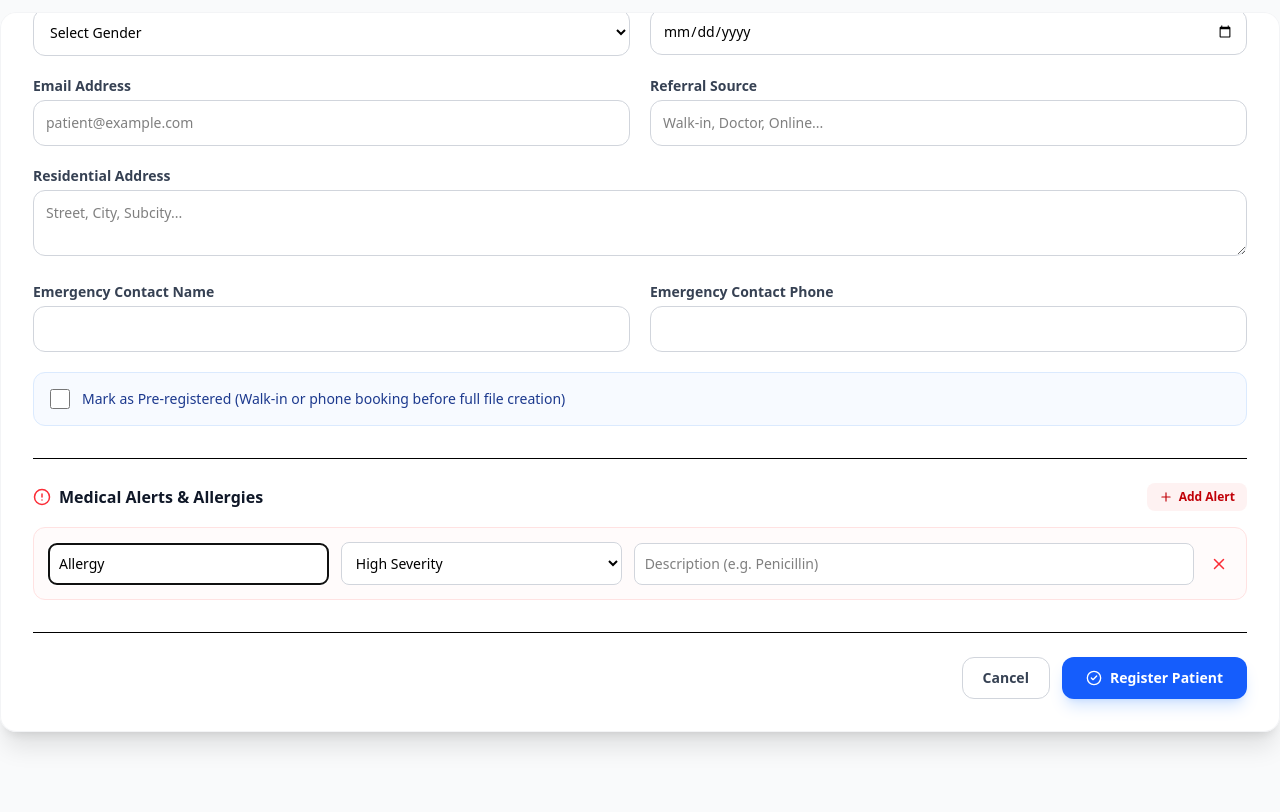
Scenario: PatientRegistrationForm (FR-PAT-001 / TR-PAT-002) › adds and removes a medical alert row (TR-PAT-003)
This screenshot has width=1280, height=812.
Earlier steps of the test are not shown.
(page scrolled)
Check: the field with placeholder "Description (e.g. Penicillin)" is shown, box [634, 542, 1194, 584]
Check: the text "no medical alerts added" is not shown
What coordinates should you click on to do the following:
click the 2nd button
I would click on:
 (1219, 564)
Its box is [1206, 550, 1232, 576].
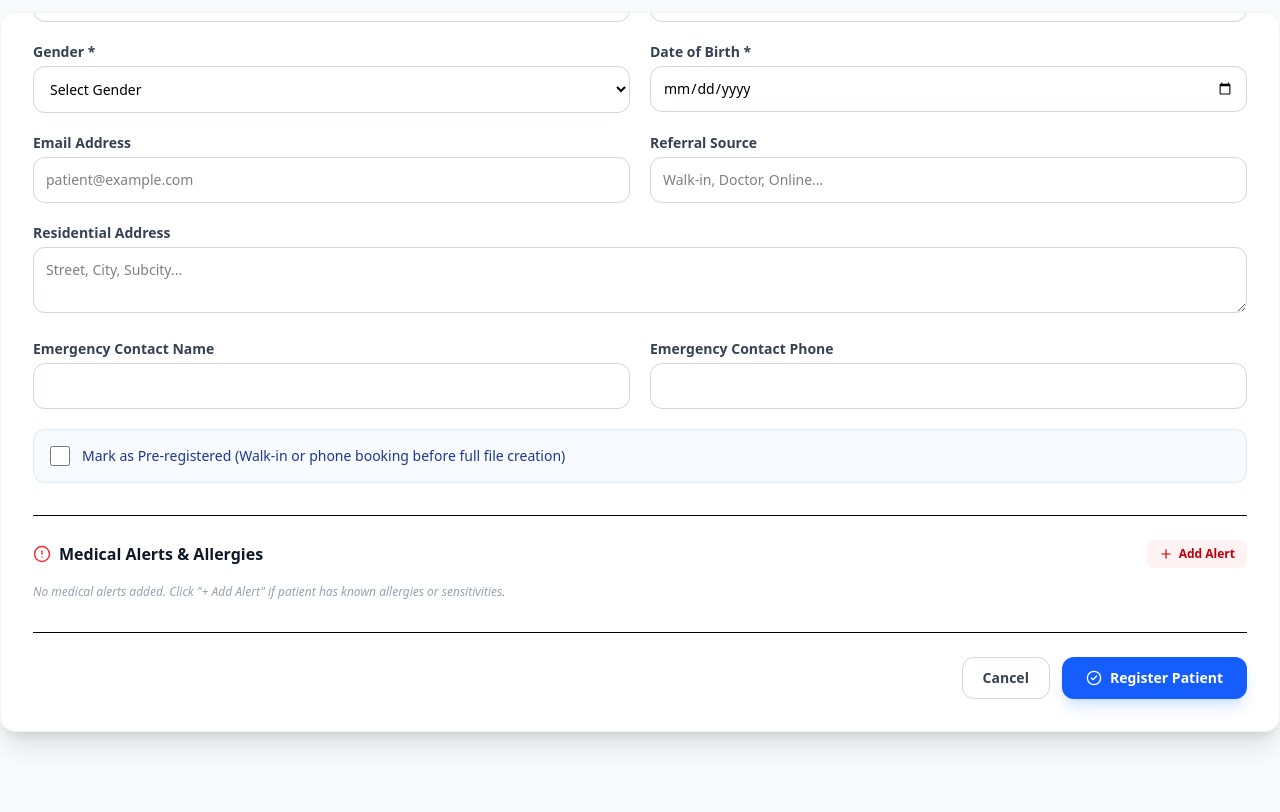
Check: the text "No medical alerts added" is shown, box [33, 583, 505, 600]
